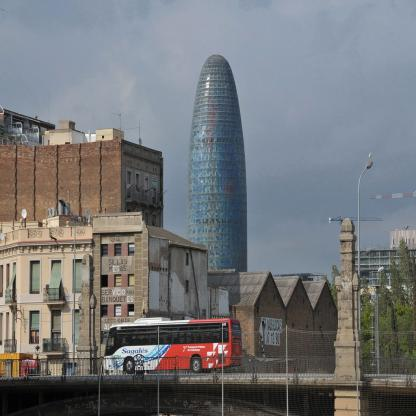Bus: (100, 318, 244, 378)
